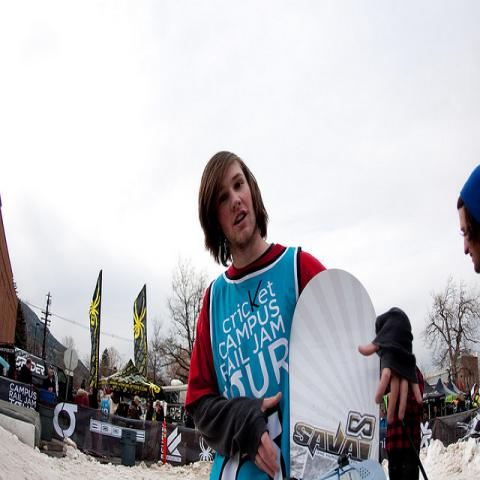bus: (0, 342, 68, 403), (161, 384, 188, 405)
